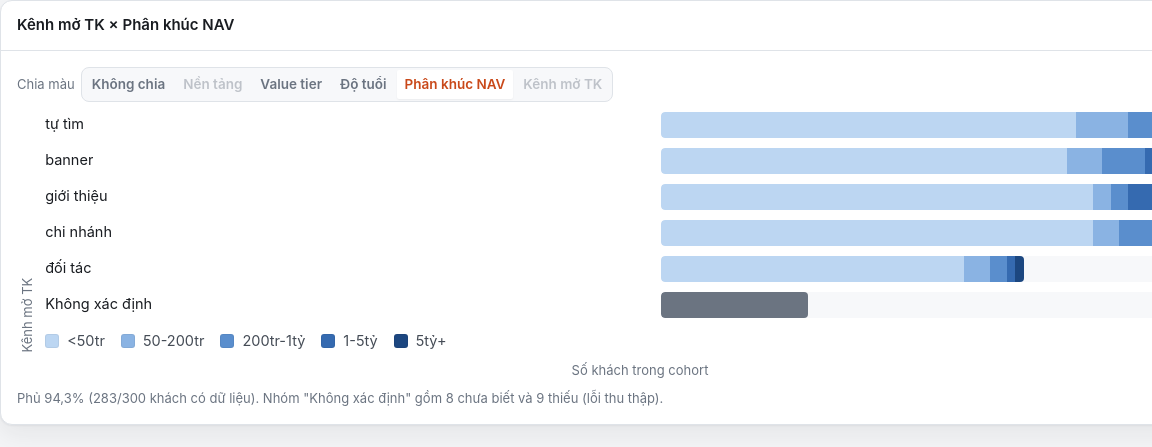
QuantifyWidget — toggle chiều chia màu: lựa chọn tới được ENGINE, không chỉ tới legend › q19: đổi NAV → Độ tuổi thì CẢ nhãn legend LẪN số từng đoạn của hàng 'tự tìm' (62 khách) đổi theo
Step 1. Click the button "Độ tuổi" → point(363, 84), box x1=332 y1=70 x2=395 y2=98
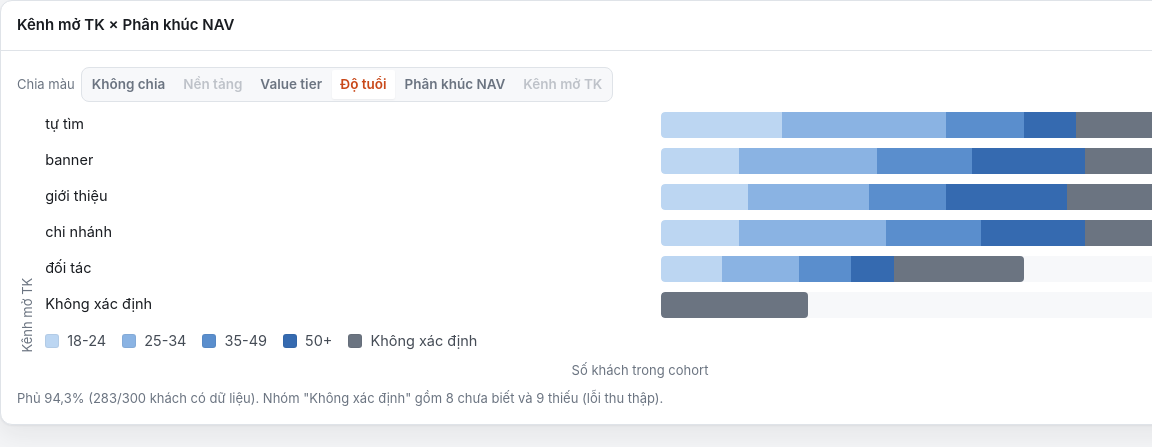
Result: the element with test id "chart-legend" shows "25-34" at x1=144 y1=332 x2=186 y2=348
Result: the element with test id "chart-legend" no longer shows "200tr-1tỷ" at x1=45 y1=332 x2=477 y2=348
